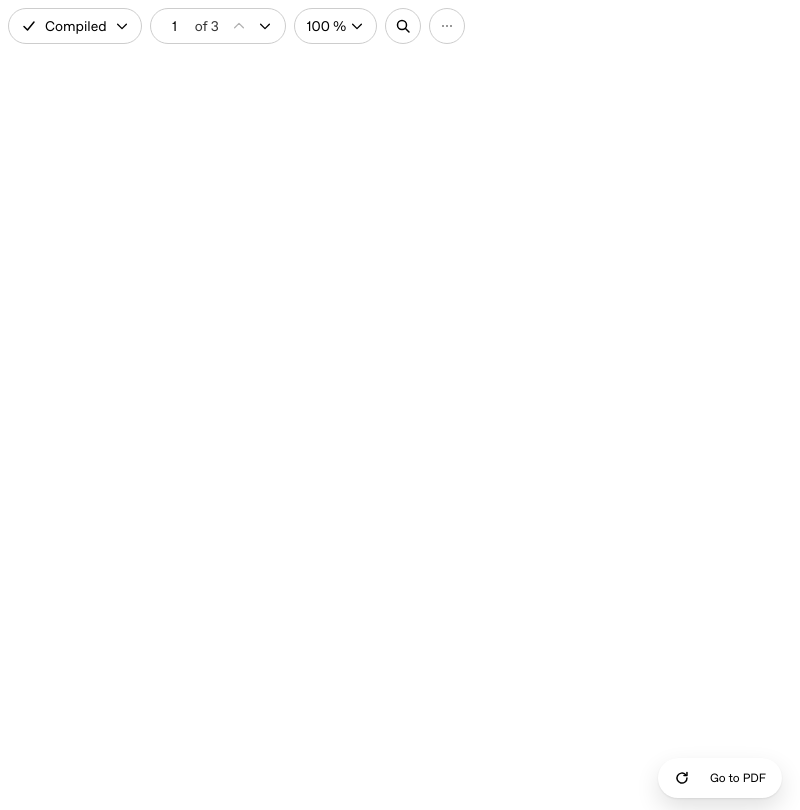
Test: PdfChrome › keeps the floating bar while the pointer is over it
This screenshot has width=800, height=810.
Hover over the element with test id "pdf-floating-bar" at [720, 778], box left=658, top=758, right=782, bottom=798
Move the pointer off the element with test id "pdf-floating-bar", box left=658, top=758, right=782, bottom=798
Wait 2100 ms
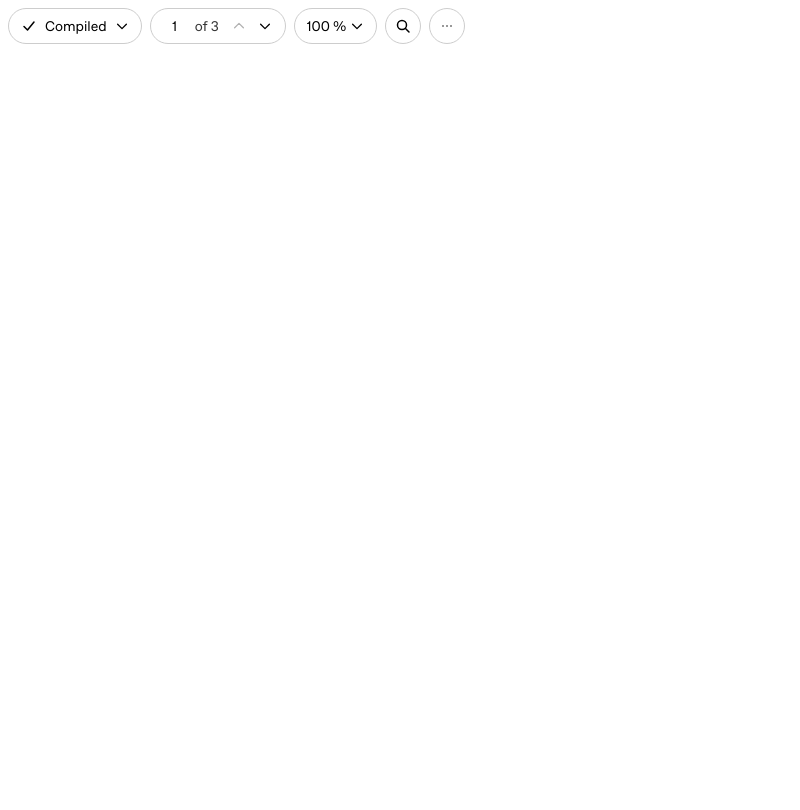
Expected: the element with test id "pdf-floating-bar" is gone
